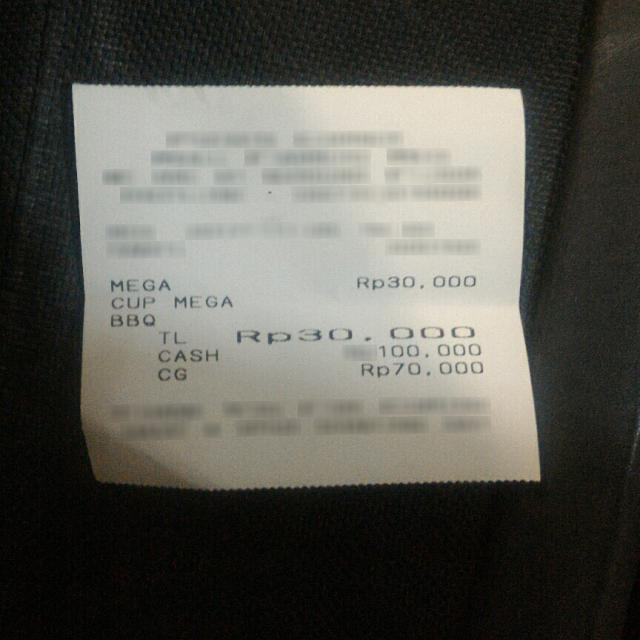kertas: (72, 72, 540, 493)
